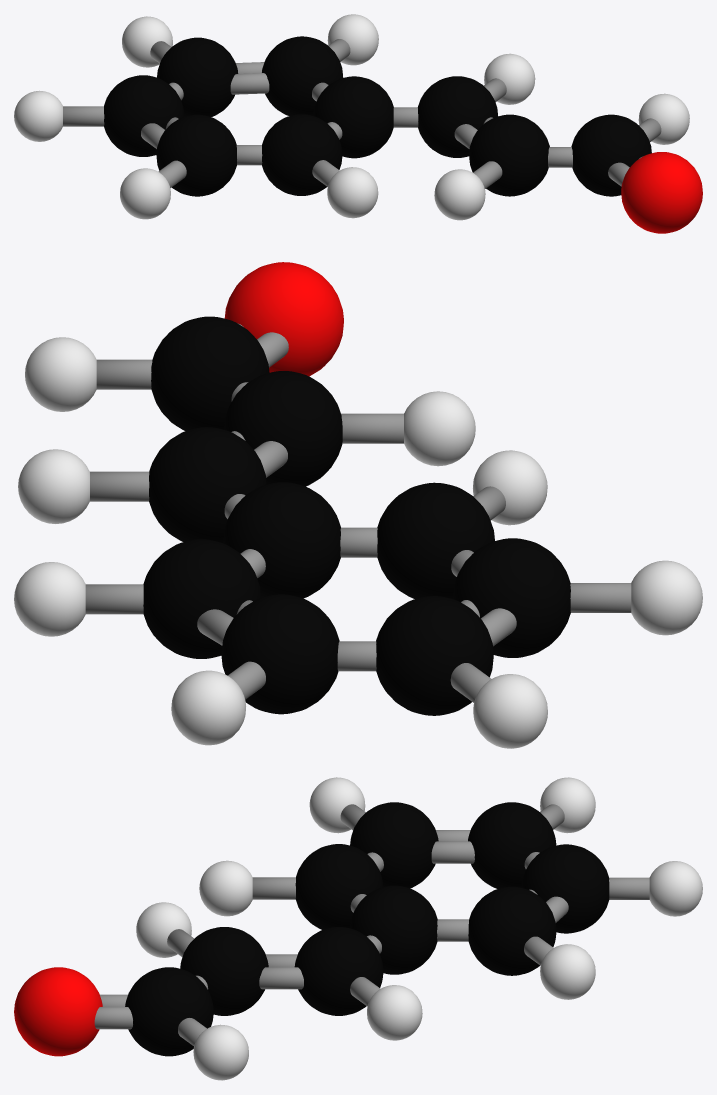
The model's file is Cinnamaldehyde.fbx.
3 views of the same model, one above another, from view 1: azimuth 30°, elevation 25°; view 2: azimuth 150°, elevation 25°; view 3: azimuth 270°, elevation 25° (orthographic). The views are drawn at different scales.
Visible parts, largest first — view 1: Oxygen, Carbon.001, Carbon, Carbon.009, Carbon.005, Carbon.003, Carbon.006, Carbon.002, Carbon.008, Carbon.010, Hydrogen.013, Hydrogen (+16 smaller); view 2: Carbon.002, Carbon.003, Carbon.005, Carbon, Carbon.008, Carbon.010, Carbon.006, Carbon.001, Carbon.009, Oxygen, Hydrogen.007, Hydrogen.006 (+18 smaller); view 3: Oxygen, Carbon.006, Carbon.008, Carbon.010, Carbon.005, Carbon.009, Carbon, Carbon.002, Carbon.001, Carbon.003, Hydrogen.009, Hydrogen.012 (+15 smaller).
Boxes of the visible parts, x1,y1,x2,y2 form: Oxygen: (621,152,702,233); Carbon.001: (156,114,236,196); Carbon: (262,114,342,195); Carbon.009: (469,114,549,196); Carbon.005: (313,76,393,158); Carbon.003: (157,37,238,116); Carbon.006: (262,36,343,115); Carbon.002: (104,75,184,156); Carbon.008: (418,76,497,157); Carbon.010: (571,114,651,196); Hydrogen.013: (434,169,485,220); Hydrogen: (327,167,378,218); Carbon.002: (376,596,493,715); Carbon.003: (221,594,339,714); Carbon.005: (223,482,340,598); Carbon: (377,482,494,598); Carbon.008: (149,427,266,542); Carbon.010: (151,316,269,430); Carbon.006: (143,539,261,658); Carbon.001: (453,538,570,657); Carbon.009: (224,371,342,486); Oxygen: (224,262,343,376); Hydrogen.007: (473,674,547,748); Hydrogen.006: (171,670,245,745); Oxygen: (14,967,102,1056); Carbon.006: (468,886,556,975); Carbon.008: (294,927,383,1015); Carbon.010: (125,967,213,1056); Carbon.005: (350,885,437,974); Carbon.009: (180,927,268,1015); Carbon: (295,844,383,929); Carbon.002: (468,802,556,888); Carbon.001: (350,802,438,888); Carbon.003: (521,844,609,933); Hydrogen.009: (540,944,595,999); Hydrogen.012: (367,985,422,1040).
Size of the model in its own units: 1148 by 160 by 1234.
